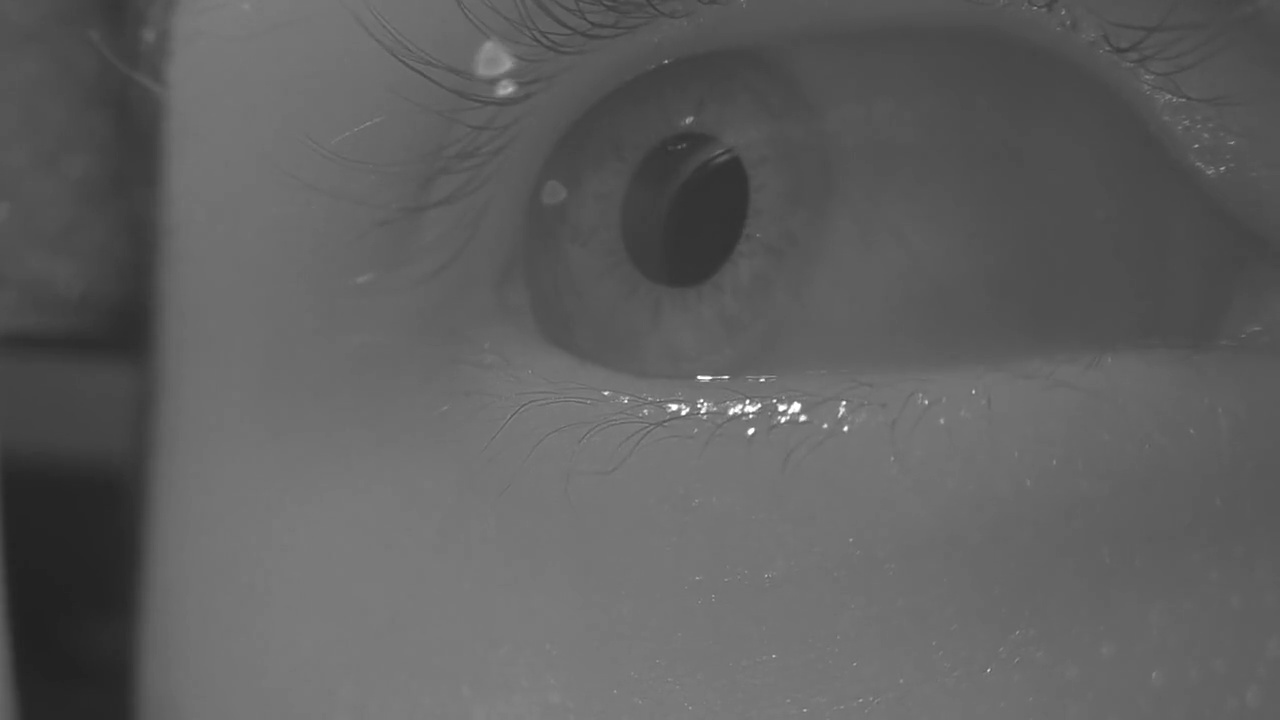pupil: (622, 132, 747, 286)
